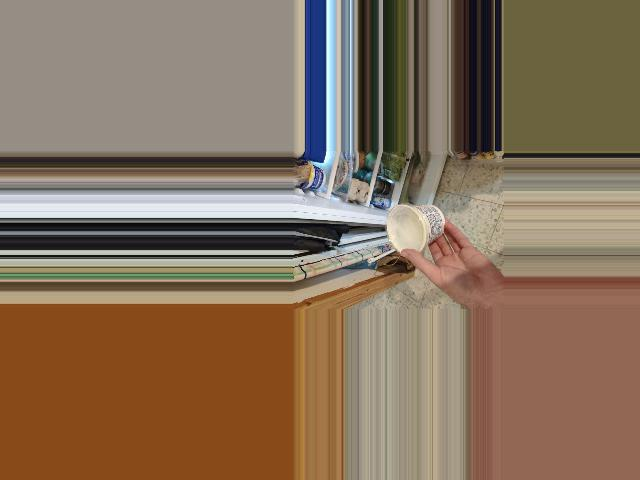cotage: (394, 207, 442, 255)
